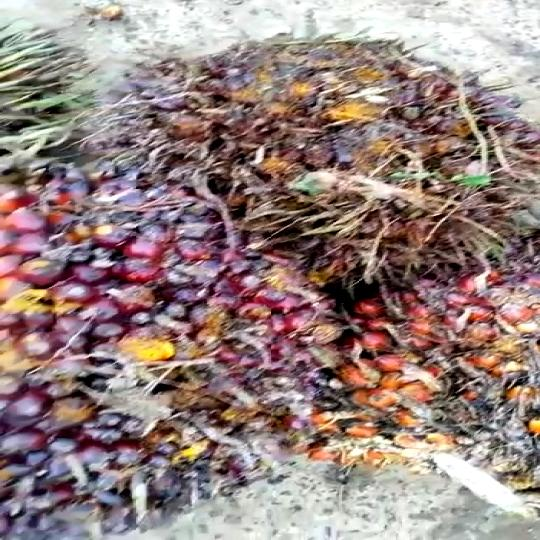masak: (0, 153, 328, 528), (130, 36, 540, 284)
